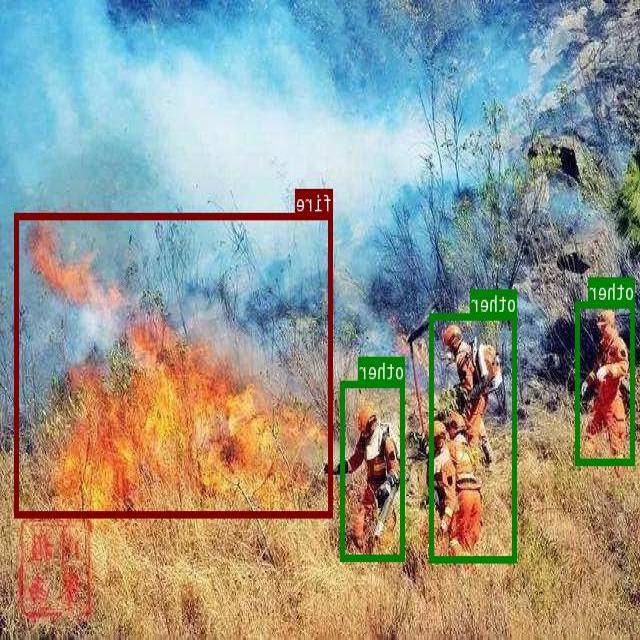fire: (15, 212, 334, 516)
other: (430, 312, 518, 562), (342, 380, 405, 559), (577, 301, 636, 464)
